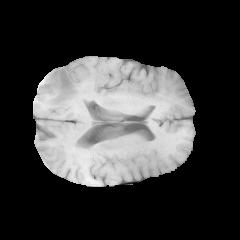glioma: (38, 56, 106, 106)
